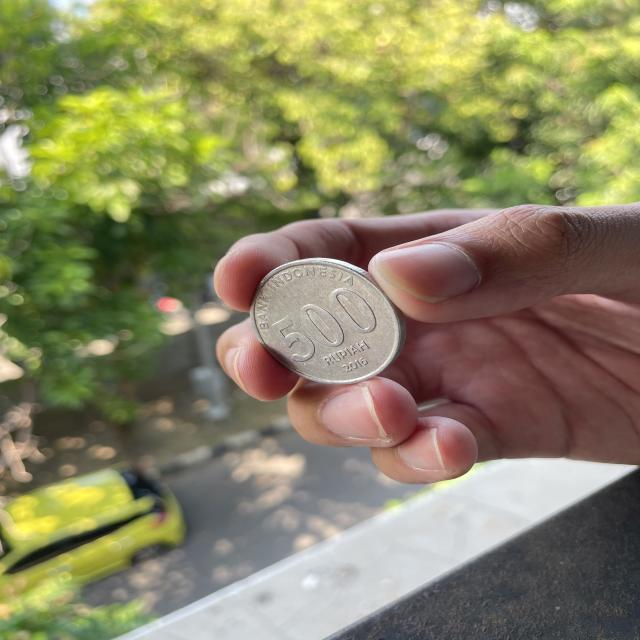500-silver: (228, 255, 424, 399)
